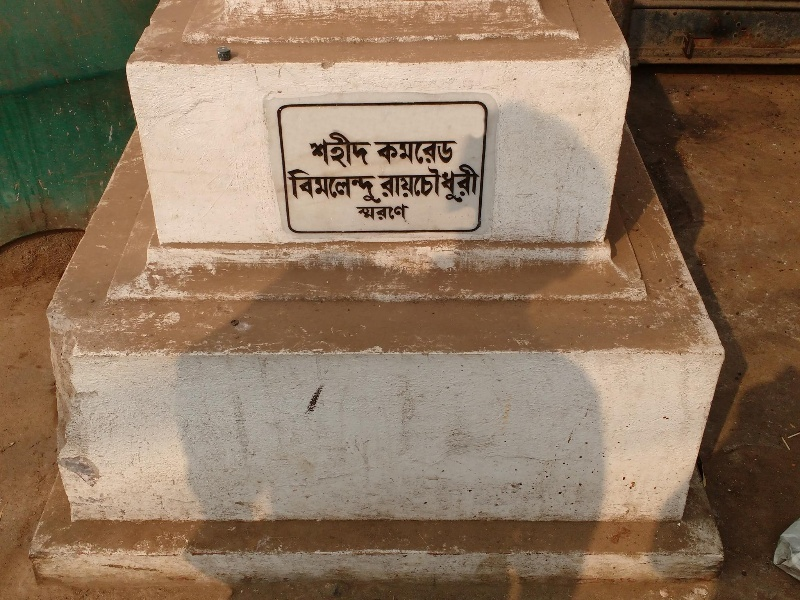text: (465, 164, 481, 204), (385, 164, 400, 204), (401, 164, 416, 204), (417, 164, 432, 204), (433, 164, 448, 204), (449, 164, 464, 204), (321, 132, 336, 169), (337, 132, 352, 169), (353, 132, 368, 169), (289, 168, 304, 204), (305, 168, 320, 204), (321, 168, 336, 204), (337, 168, 352, 204), (353, 168, 368, 204), (369, 168, 382, 204), (309, 132, 320, 169), (385, 140, 400, 166), (401, 140, 416, 166), (417, 140, 432, 166), (433, 140, 448, 166), (375, 164, 384, 204), (369, 203, 384, 222), (385, 203, 400, 222), (354, 203, 368, 222), (374, 140, 384, 166), (449, 140, 458, 166), (401, 203, 410, 222), (369, 132, 373, 169), (286, 168, 288, 204)
